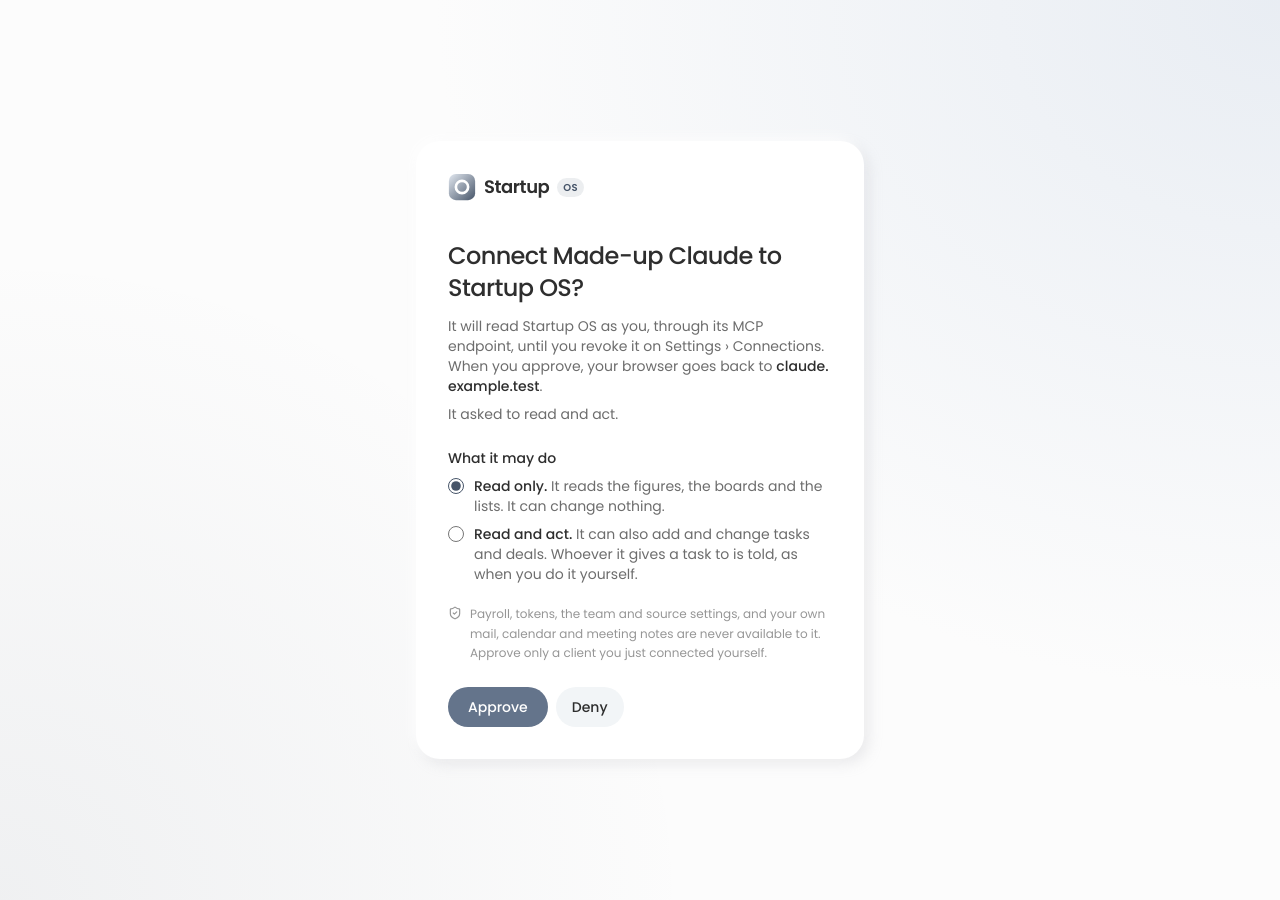
it: the owner's choice › a refusal is said in the server's words, and the browser stays
Click the button "Approve" at (498, 707), box [448,687,548,727]
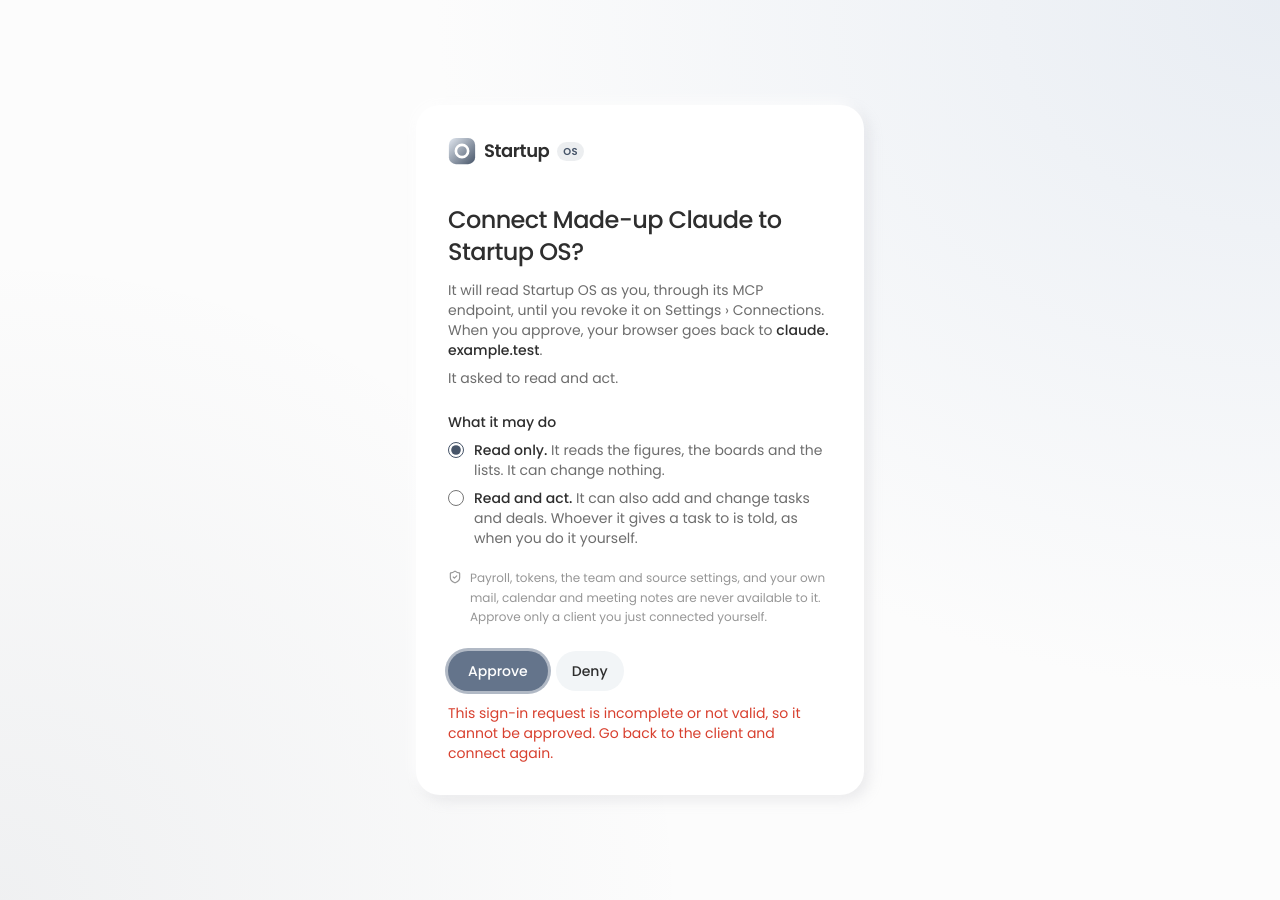
Expected: the message shows "This sign-in request is incomplete or not valid, so it cannot be approved. Go back to the client and connect again.", [448,703,800,763]
